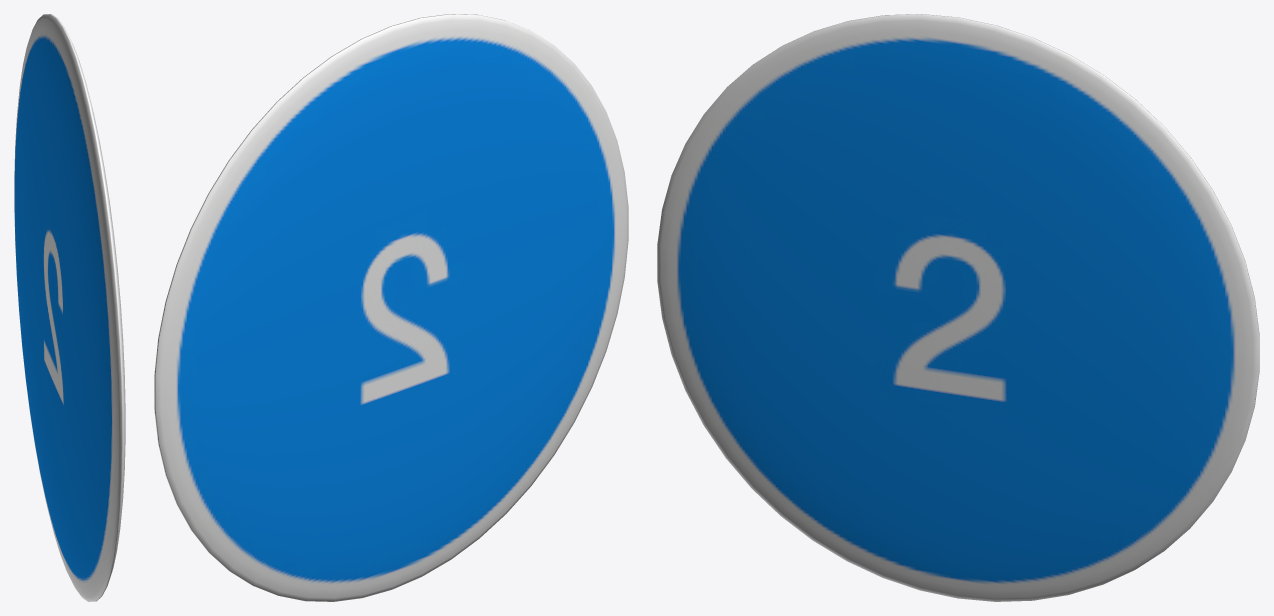
File: anniu2.FBX
The picture shows the model from 3 angles, left to right: view 1: azimuth 30°, elevation 25°; view 2: azimuth 150°, elevation 25°; view 3: azimuth 270°, elevation 25°; orthographic projection. The views are drawn at different scales.
Visible parts, largest first — view 1: Sphere002; view 2: Sphere002; view 3: Sphere002.
Part boxes in pixels (x1,y1,x2,y2): Sphere002: (14,14,125,601); Sphere002: (154,14,628,601); Sphere002: (657,14,1259,601).
Size of the model in its own units: 3.75 by 10.98 by 10.33.
Materials: 1 (1 with a texture image).
